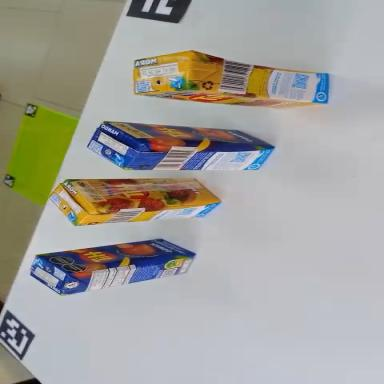HIT-MANGO: (28, 227, 199, 301), (87, 120, 275, 178)
HIT-MORA: (130, 41, 333, 127), (50, 170, 221, 227)
cara_F: (36, 232, 196, 278), (67, 170, 221, 212), (137, 84, 323, 114), (103, 122, 276, 153)
